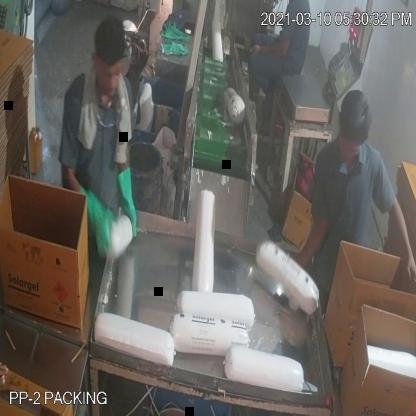glove: (112, 157, 144, 245)
no_glove: (282, 194, 335, 293), (380, 186, 416, 292), (247, 34, 294, 75)
